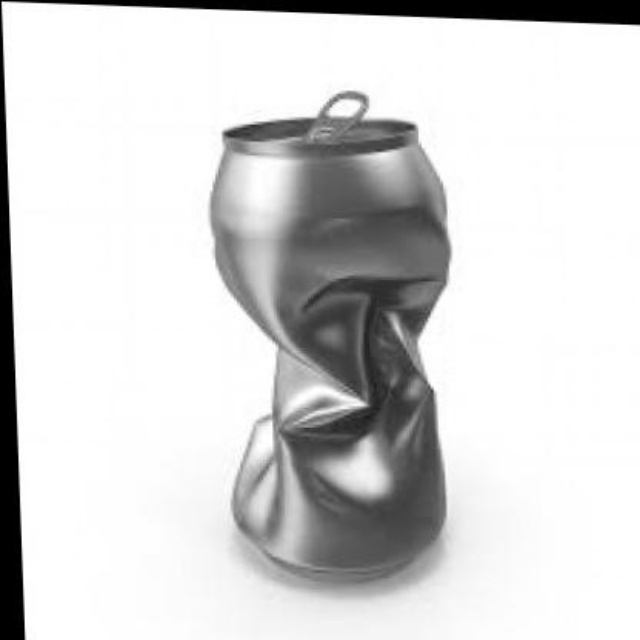trash: (211, 91, 449, 577)
